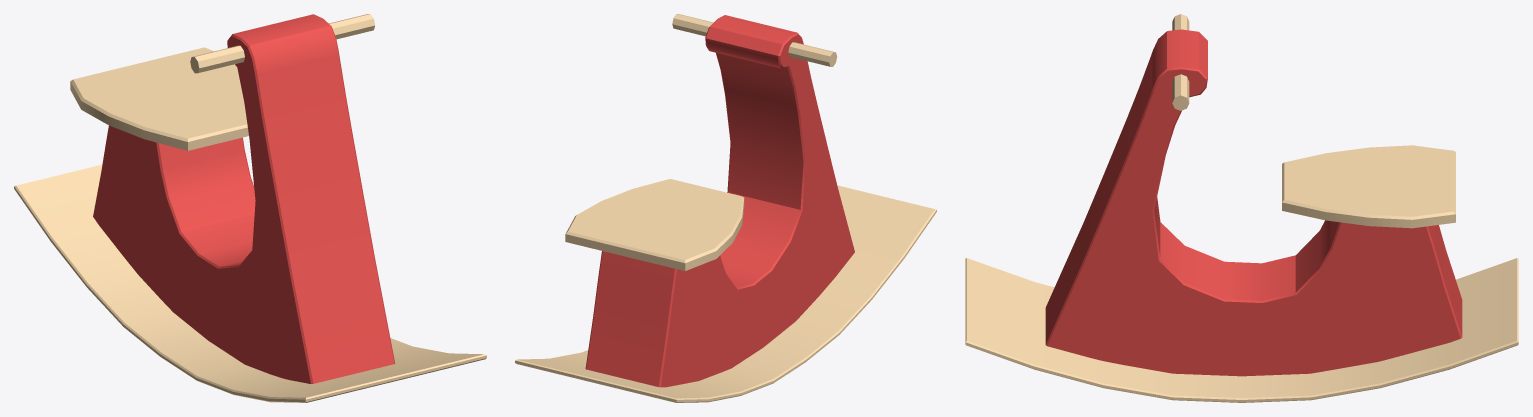
The model's file is Rocking_Toys.fbx.
3 renders of one model, left to right at view 1: azimuth 30°, elevation 25°; view 2: azimuth 150°, elevation 25°; view 3: azimuth 270°, elevation 25°, orthographic. The views are drawn at different scales.
Parts seen in each view (by area): view 1: Rocking_Toys; view 2: Rocking_Toys; view 3: Rocking_Toys.
Boxes of the visible parts, box(x1,y1,x2,y2) form: Rocking_Toys: box(14, 14, 486, 402); Rocking_Toys: box(515, 14, 936, 402); Rocking_Toys: box(965, 14, 1518, 402).
Bounding box in the file's own units: 52.88 × 92.1 × 147.
1 material, 1 textured.
